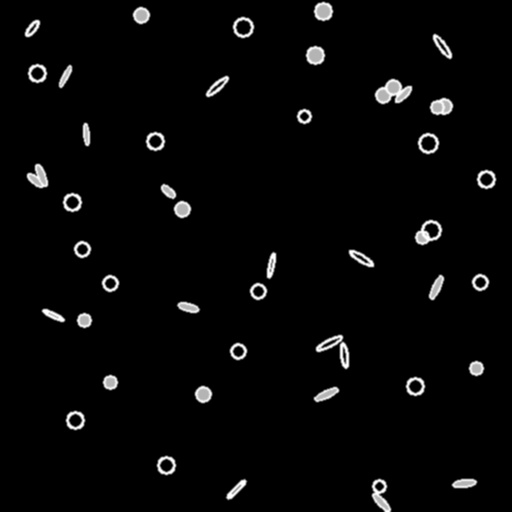pseudomonas: (431, 33, 453, 59), (205, 75, 229, 97), (315, 334, 343, 352), (225, 478, 247, 500), (348, 249, 374, 267), (313, 386, 339, 402), (428, 274, 444, 300), (393, 84, 413, 104), (371, 492, 391, 512), (34, 163, 48, 187), (58, 65, 72, 87), (42, 308, 64, 322), (26, 172, 44, 188), (24, 19, 40, 37), (177, 301, 199, 313), (339, 342, 349, 368), (266, 252, 276, 278), (160, 183, 176, 199), (452, 478, 476, 488), (83, 124, 89, 144)
synechocystis: (419, 134, 437, 152), (422, 221, 440, 239), (234, 18, 252, 36), (147, 133, 163, 149), (315, 3, 331, 19), (407, 378, 423, 394), (29, 65, 45, 81), (307, 47, 323, 63), (158, 457, 174, 473), (67, 412, 83, 428), (64, 194, 80, 210), (478, 171, 494, 187), (376, 88, 390, 102), (437, 99, 451, 113), (473, 275, 487, 289), (251, 284, 265, 298), (75, 242, 89, 256), (231, 344, 245, 358), (103, 276, 117, 290), (175, 202, 189, 216), (134, 8, 148, 22), (196, 387, 210, 401), (386, 80, 400, 94), (470, 362, 482, 374), (104, 376, 116, 388), (78, 314, 90, 326), (416, 231, 428, 243), (373, 480, 385, 492), (298, 110, 310, 122), (431, 101, 443, 113)
